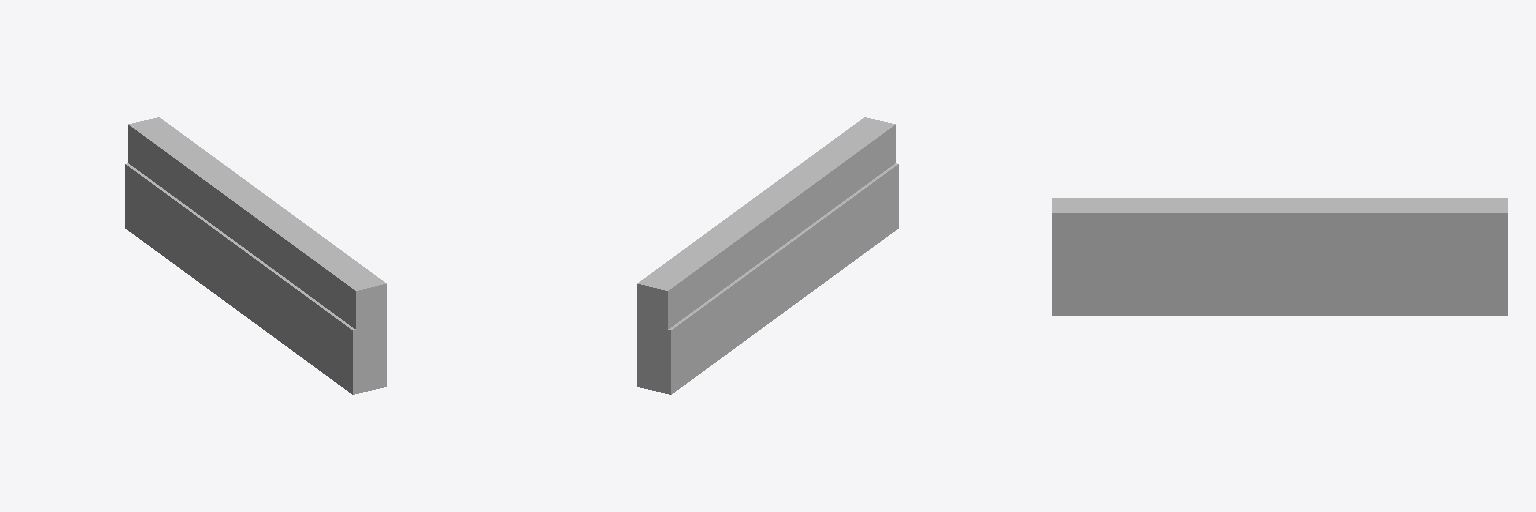
The model's file is avtoneriMayt.obj.
3 renders of one model, left to right at view 1: azimuth 30°, elevation 25°; view 2: azimuth 150°, elevation 25°; view 3: azimuth 270°, elevation 25°, orthographic.
Visible parts, largest first — view 1: object 1; view 2: object 1; view 3: object 1.
Part boxes in pixels (bbox=[...]): object 1: bbox=[125, 117, 386, 394]; object 1: bbox=[637, 117, 898, 394]; object 1: bbox=[1052, 198, 1507, 315].
Bounding box in the file's own units: 1.1 × 3.2 × 12.8.